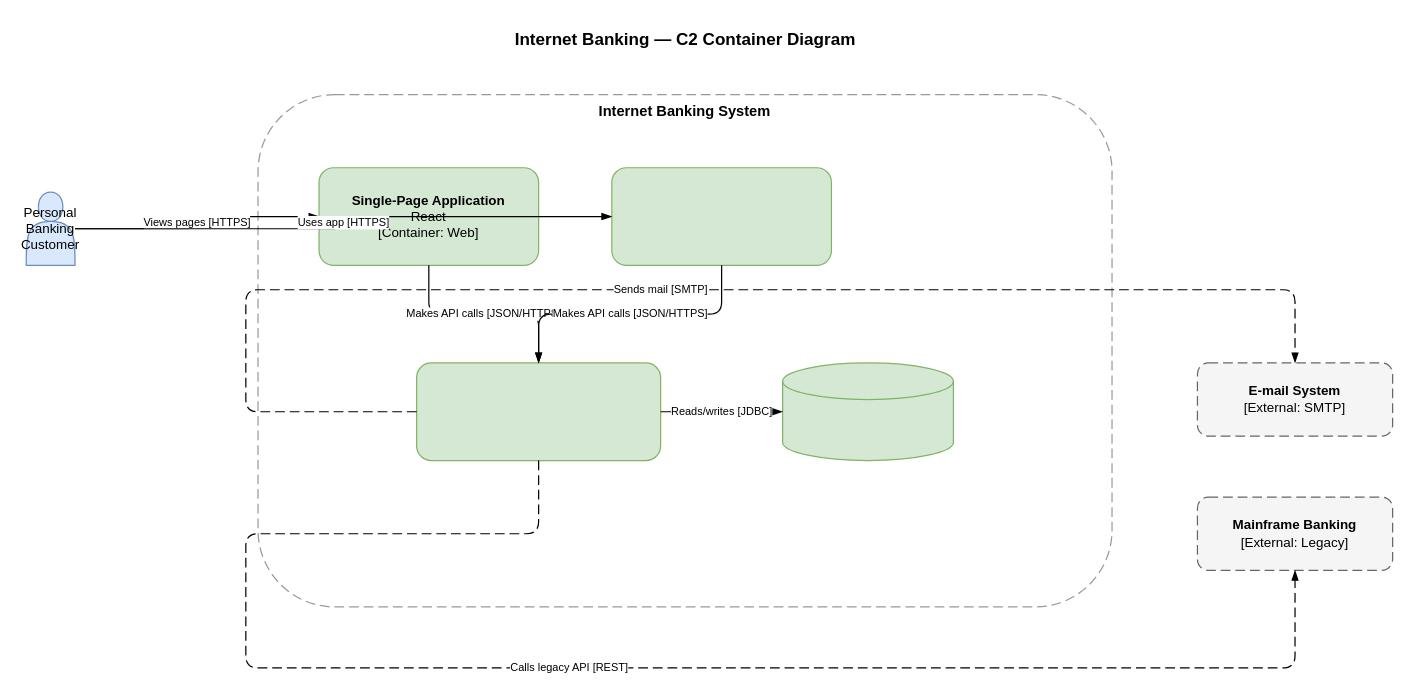
Some shapes in this 1414 by 699 pixel diagram are drawn without their labels. The shapes that lost their labels are listed below. From the top down, each one's centre as x and y in pixels, then its label:
the point at 721,216: Mobile App iOS / Android [Container: Mobile]
the point at 538,411: API Application Spring Boot [Container: API]
the point at 867,411: Database MySQL [Container: Data]
